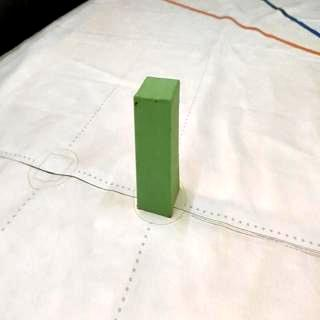greenbox: (133, 75, 182, 219)
